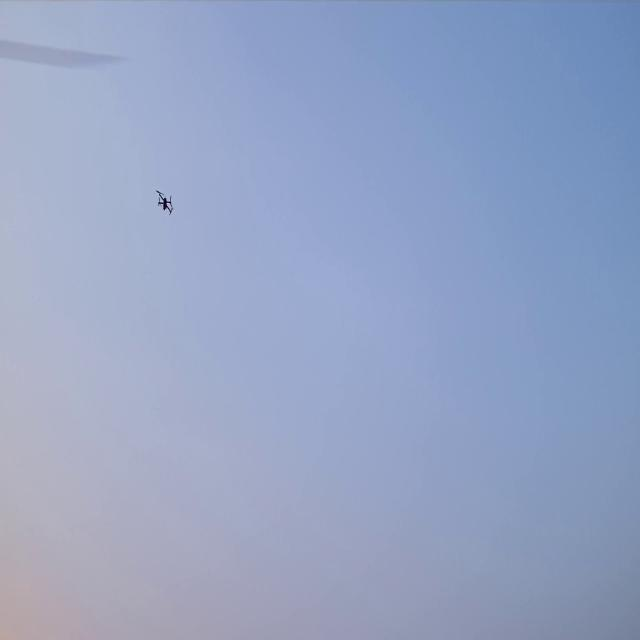UAV: (156, 190, 174, 217)
